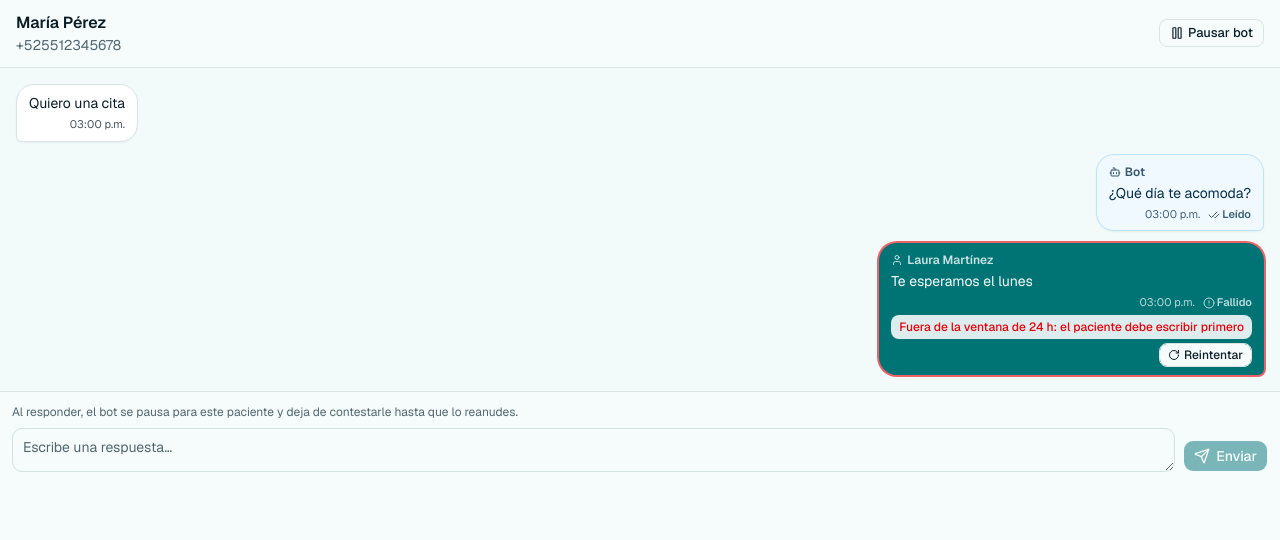
ConversationThread › si el envío falla muestra el error y conserva el texto
Type "Hola" into the text box labelled "Escribe una respuesta". click: x=594, y=450
box: [12,428,1175,472]
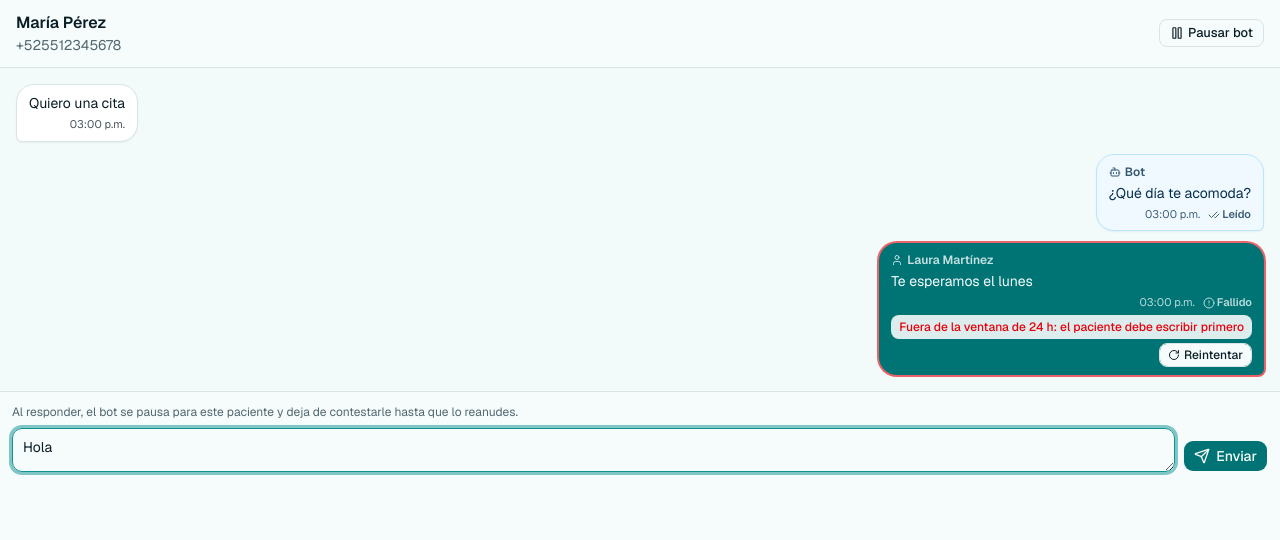
Click the button "Enviar". click: x=1226, y=456
box: [1183,440,1268,472]
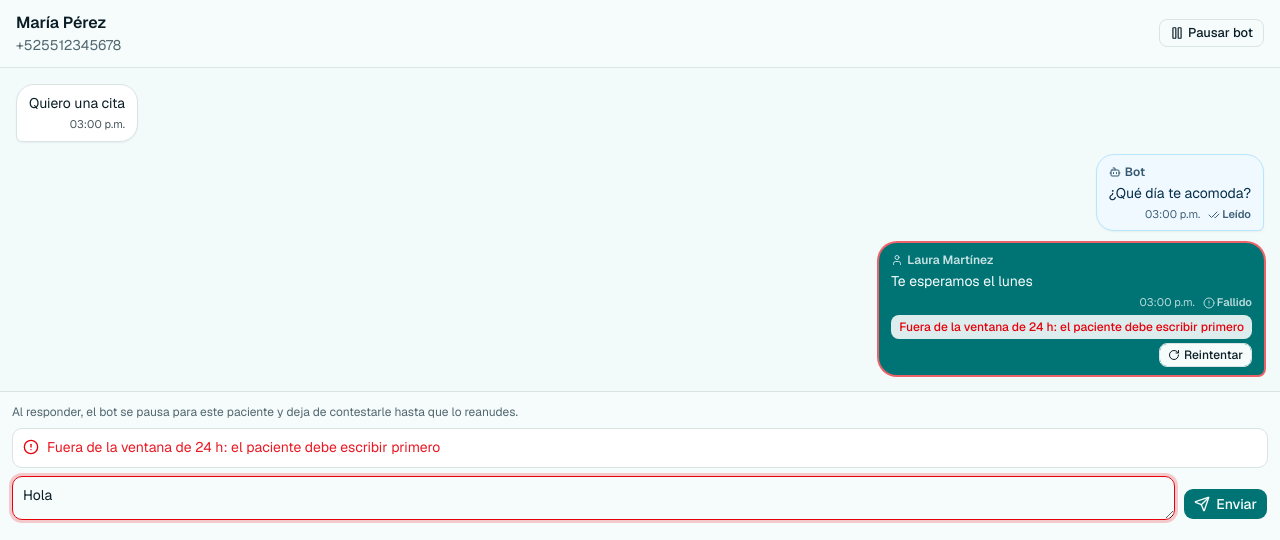
Expected: the message reads "Fuera de la ventana de 24 h: el paciente debe escribir primero", [47,438,440,456]
